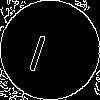I: (25, 25, 52, 73)
